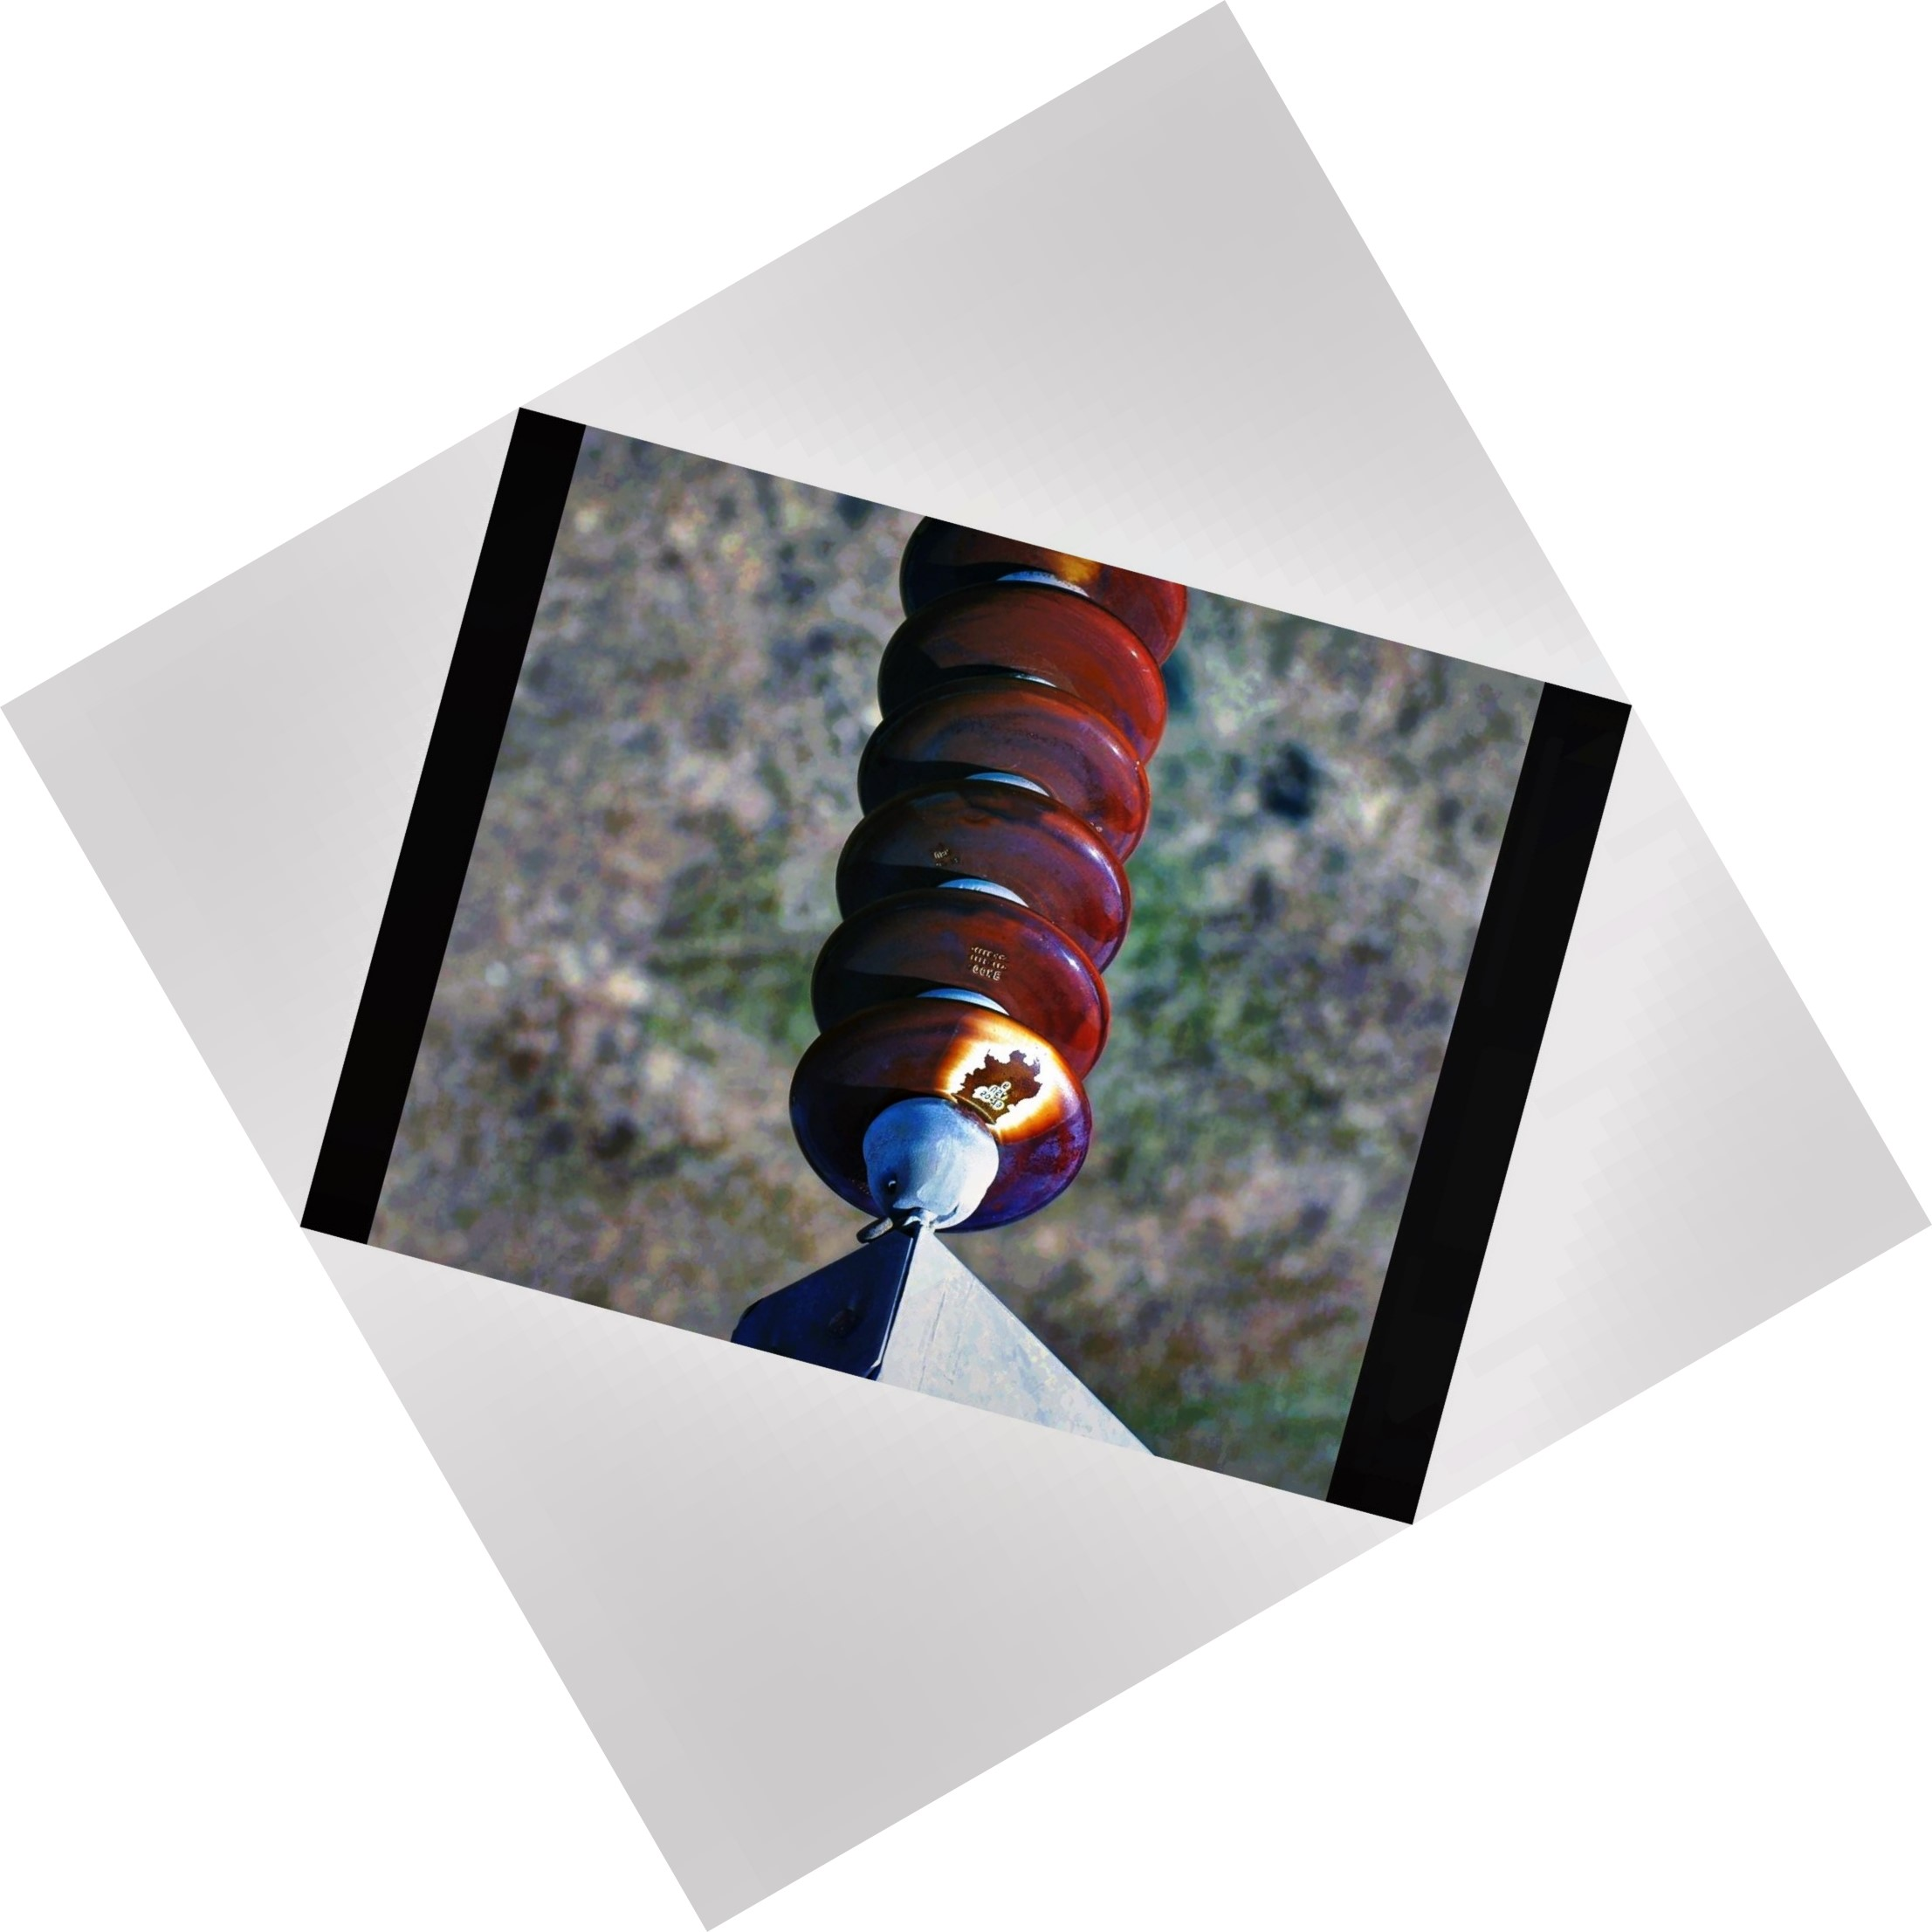Insulator flashover: (778, 980, 1095, 1244)
